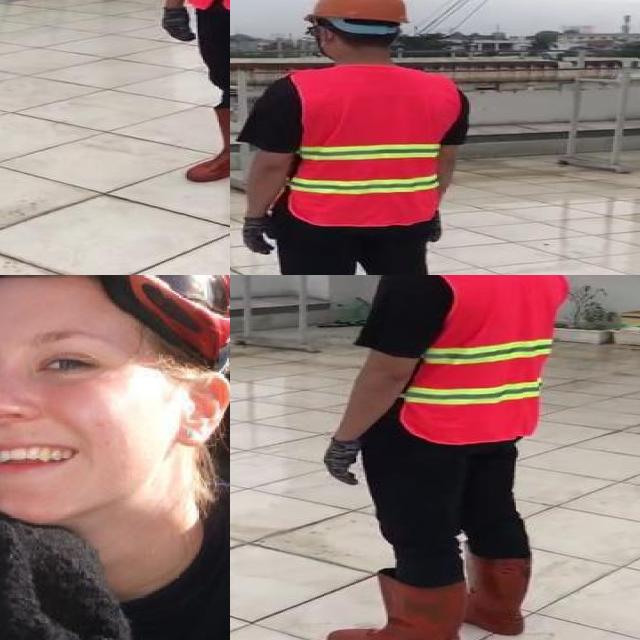boots: (327, 575, 464, 640), (468, 542, 534, 637), (187, 104, 230, 183)
face_nomask: (0, 336, 189, 513)
hand_glove: (324, 435, 365, 485), (236, 217, 281, 257), (157, 6, 199, 44)
head_helmet: (303, 0, 410, 26)
head_nohelmet: (0, 275, 230, 317)
person: (302, 275, 585, 640), (0, 275, 230, 640), (231, 0, 480, 275), (149, 0, 230, 210)
vest: (395, 275, 569, 444), (286, 65, 460, 223)
